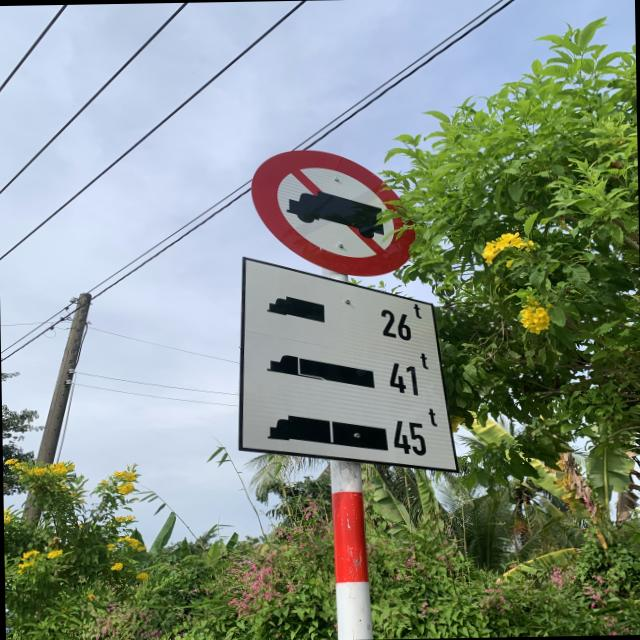Cam_Xe_Tai: (254, 146, 433, 276)
